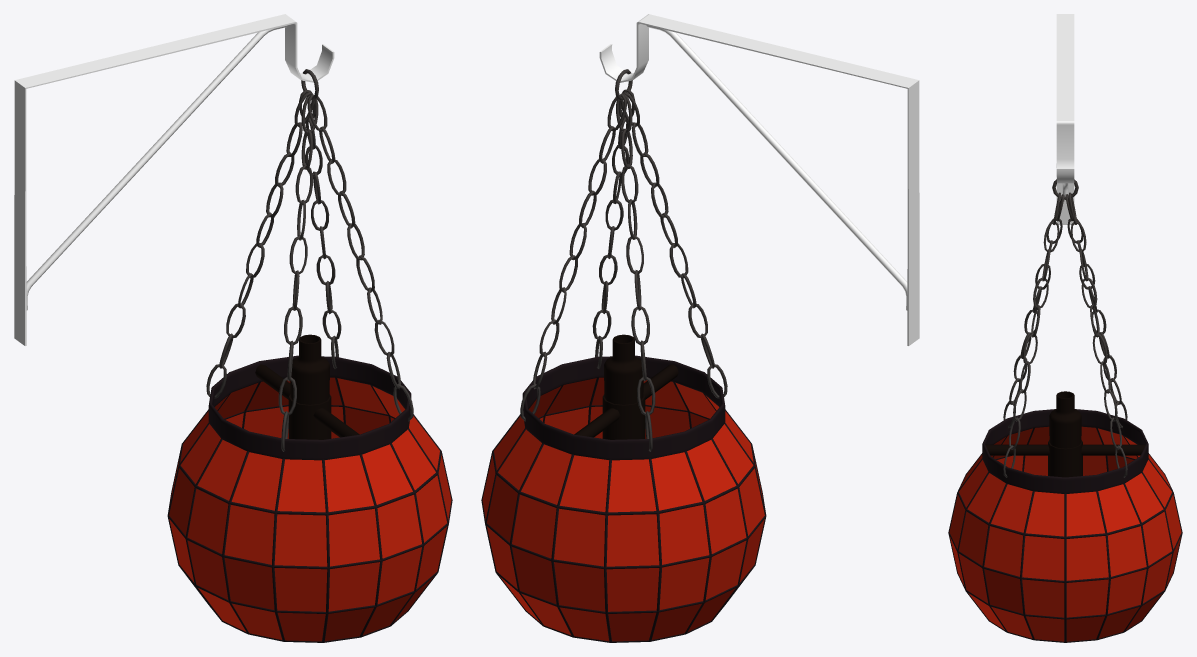
Rendered from Lamp_StainedGlass_Red.fbx.
The picture shows the model from 3 angles, left to right: view 1: azimuth 30°, elevation 25°; view 2: azimuth 150°, elevation 25°; view 3: azimuth 270°, elevation 25°; orthographic projection. The views are drawn at different scales.
Parts seen in each view (by area): view 1: Lamp, Hanger; view 2: Lamp, Hanger; view 3: Lamp, Hanger.
Boxes of the visible parts, left/top/right/bottom form: Lamp: left=167, top=69, right=452, bottom=642; Hanger: left=14, top=14, right=334, bottom=345; Lamp: left=481, top=69, right=766, bottom=642; Hanger: left=599, top=14, right=919, bottom=345; Lamp: left=948, top=179, right=1182, bottom=642; Hanger: left=1056, top=14, right=1074, bottom=224.
Size of the model in its own units: 0.4282 by 0.5796 by 0.257.
